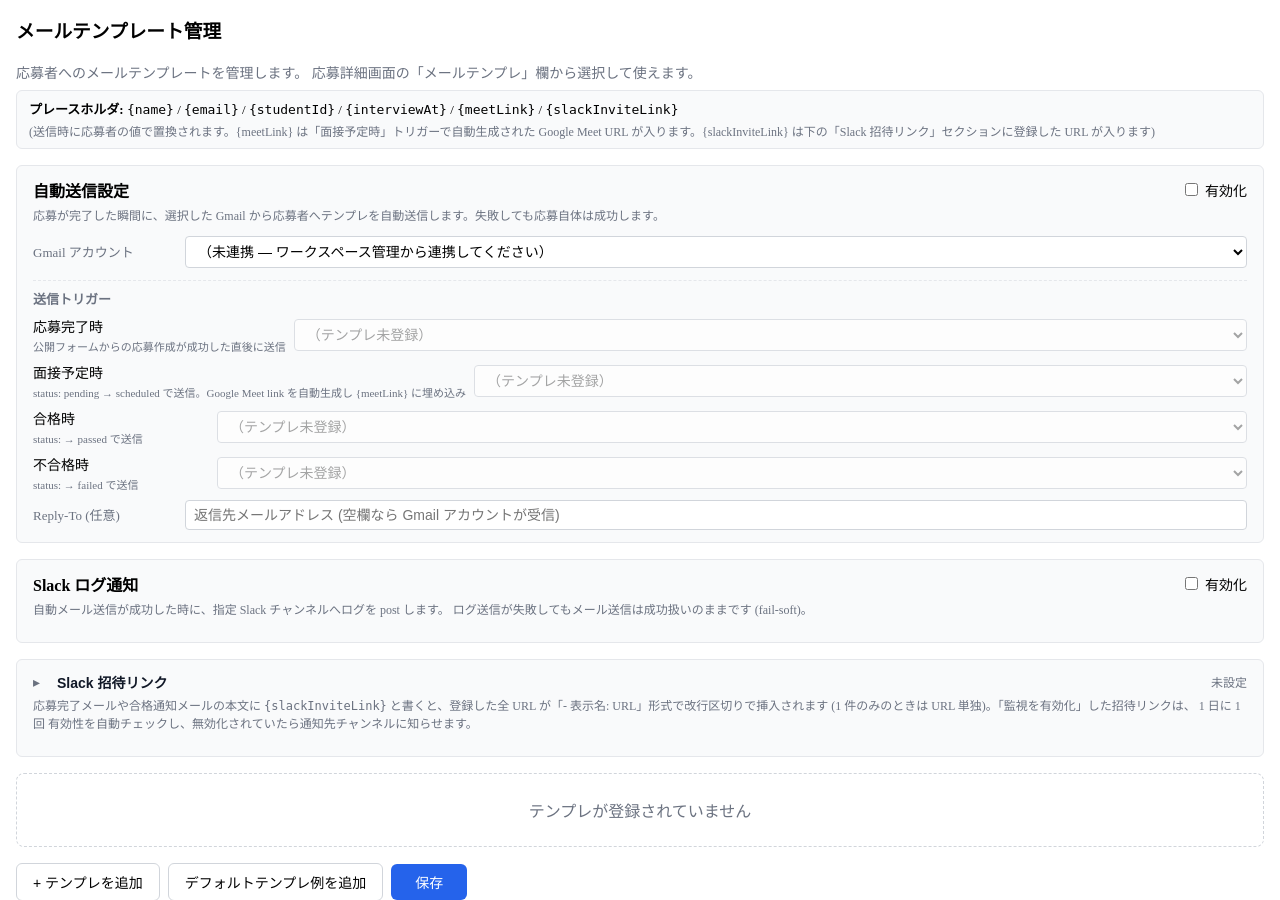
Test: EmailTemplatesEditor smoke (Phase4-5 slackInvites 番人) › 展開トグルで編集 UI が現れ、未登録なら空メッセージが出る
The image size is (1280, 900).
Click the button "▸ Slack 招待リンク 未設定" at [112, 683], box [33,672,1247,692]
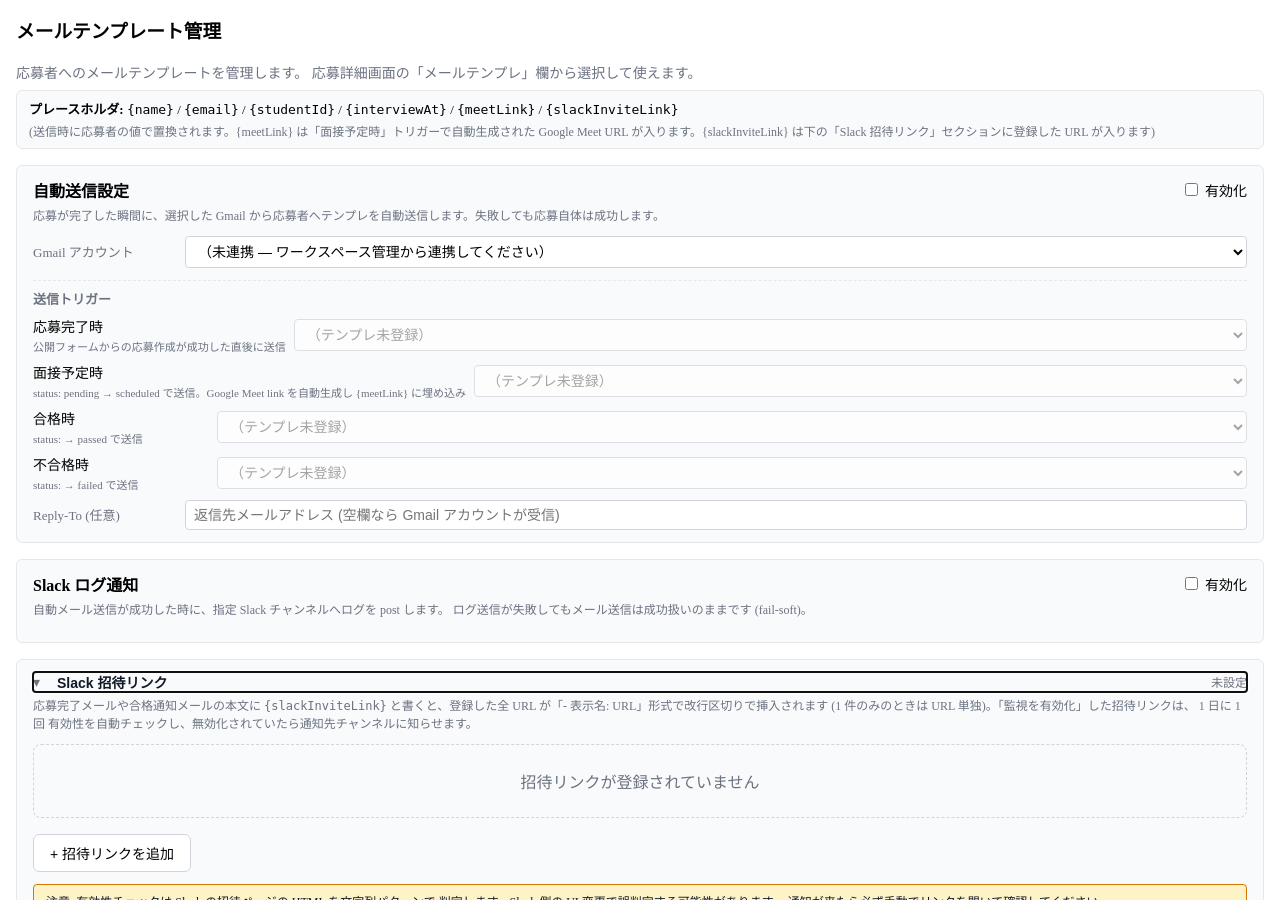
Expected: the text "招待リンクが登録されていません" is shown, [33,744,1247,818]
Expected: the button "+ 招待リンクを追加" is shown, [33,834,191,872]
